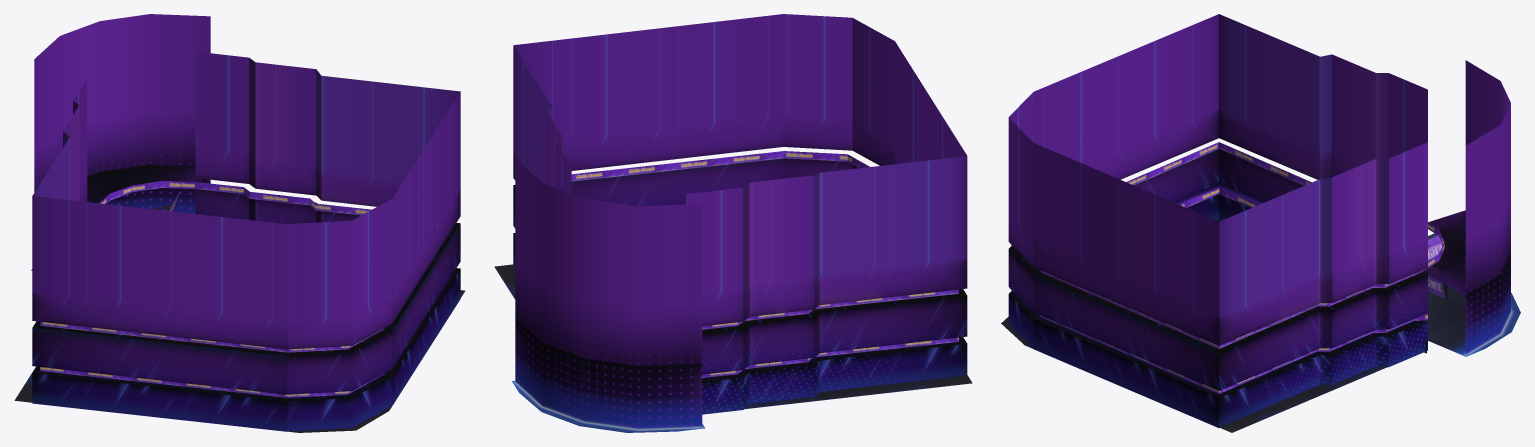
The model's file is stage_world_class-Wall.fbx.
3 renders of one model, left to right at view 1: azimuth 30°, elevation 25°; view 2: azimuth 150°, elevation 25°; view 3: azimuth 270°, elevation 25°, orthographic. The views are drawn at different scales.
Visible parts, largest first — view 1: stage.010; view 2: stage.010; view 3: stage.010.
Part boxes in pixels (x1,y1,x2,y2): stage.010: (14, 14, 465, 432); stage.010: (494, 14, 972, 432); stage.010: (1001, 14, 1520, 432).
Size of the model in its own units: 7430 by 3529 by 7455.
